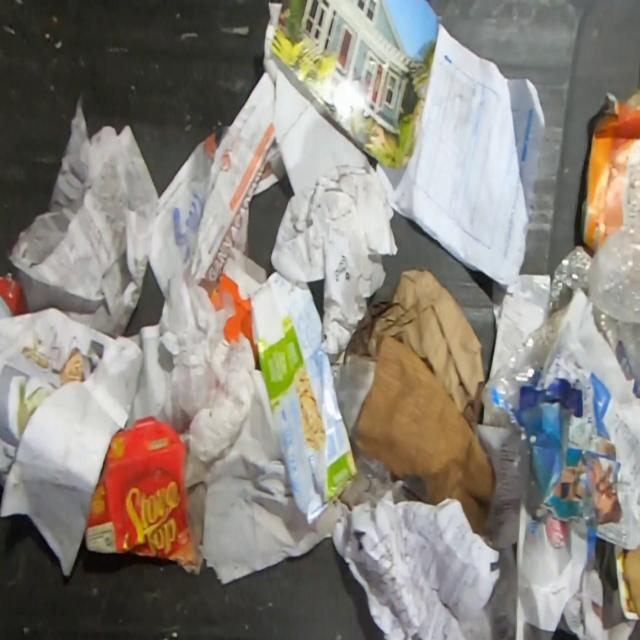cardboard: (354, 334, 496, 537), (491, 371, 622, 527), (82, 415, 197, 563), (580, 86, 640, 254), (624, 537, 640, 623), (0, 269, 23, 317)
rigid_plastic: (479, 239, 640, 426)
soft_plastic: (588, 227, 640, 324)
